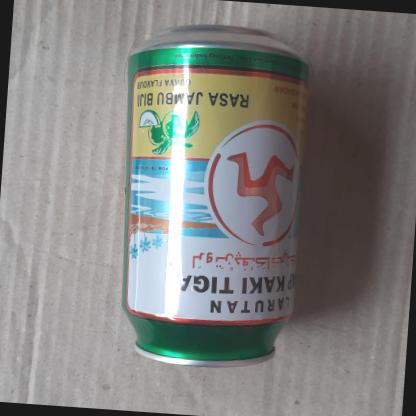alumunium_can: (72, 6, 328, 382)
